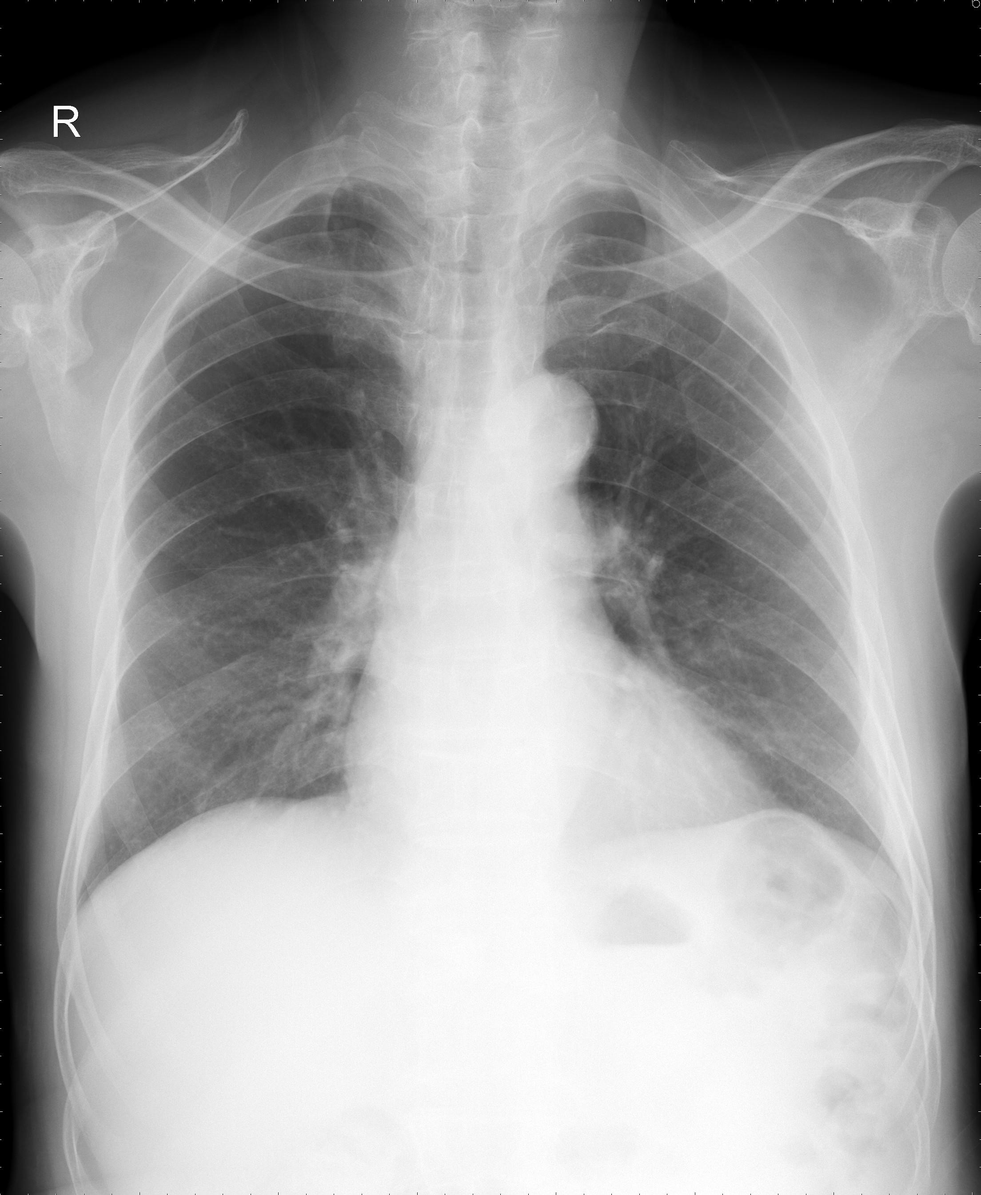Aortic enlargement: (478, 373, 598, 476)
Pleural thickening: (241, 172, 358, 247), (579, 174, 687, 225)
